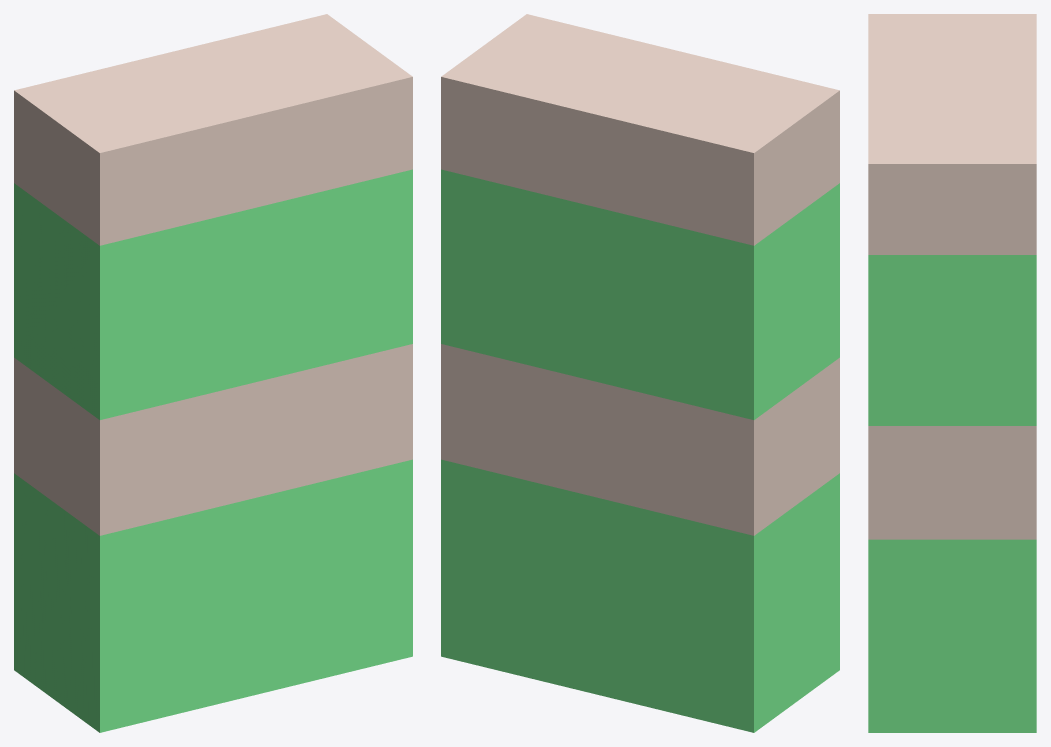
Rendered from Ürün13.fbx.
The picture shows the model from 3 angles, left to right: view 1: azimuth 30°, elevation 25°; view 2: azimuth 150°, elevation 25°; view 3: azimuth 270°, elevation 25°; orthographic projection.
Visible parts, largest first — view 1: pCube68; view 2: pCube68; view 3: pCube68.
Boxes of the visible parts, bbox=[...] form: pCube68: bbox=[14, 14, 412, 732]; pCube68: bbox=[441, 14, 839, 732]; pCube68: bbox=[868, 14, 1036, 732].
Bounding box in the file's own units: 23.51 × 41.6 × 11.16.
